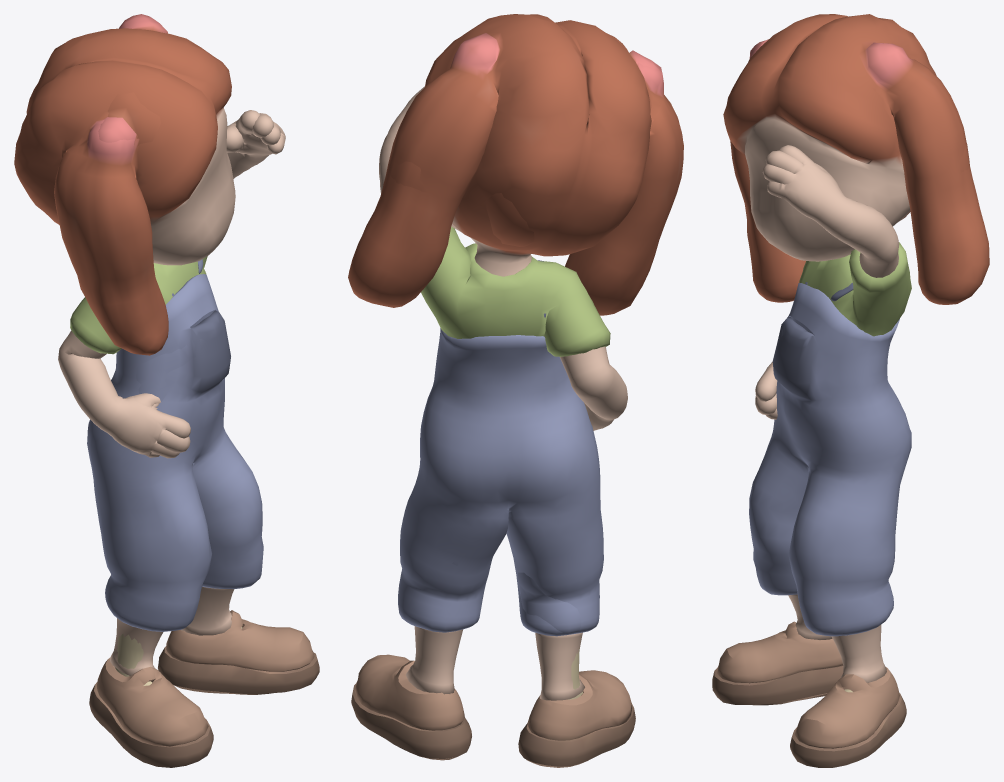
The picture shows the model from 3 angles, left to right: view 1: azimuth 30°, elevation 25°; view 2: azimuth 150°, elevation 25°; view 3: azimuth 270°, elevation 25°; orthographic projection. The views are drawn at different scales.
Visible parts, largest first — view 1: Arms.113; view 2: Arms.113; view 3: Arms.113.
Boxes of the visible parts, <box> form: Arms.113: <box>14,14,319,767</box>; Arms.113: <box>348,14,683,767</box>; Arms.113: <box>712,14,989,767</box>.
Size of the model in its own units: 69.05 by 164 by 60.96.
